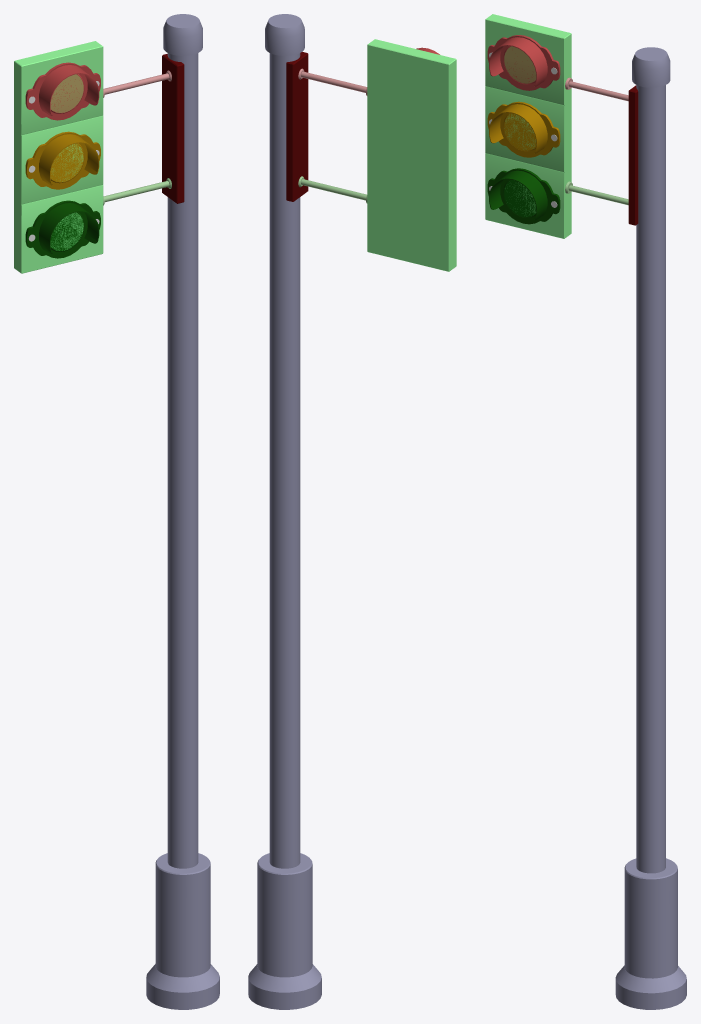
The model's file is t-lightTS.FBX.
The picture shows the model from 3 angles, left to right: view 1: azimuth 30°, elevation 25°; view 2: azimuth 150°, elevation 25°; view 3: azimuth 330°, elevation 25°; orthographic projection. The views are drawn at different scales.
Visible parts, largest first — view 1: tab, light-tab, light-red, light-yellow, light-green, holder-right, holder-down, holder-up; view 2: tab, light-tab, holder-right, holder-up, holder-down; view 3: tab, light-tab, light-yellow, light-red, light-green, holder-right.
Boxes of the visible parts, box(x1,y1,x2,y2) form: tab: box(146, 14, 219, 1009); light-tab: box(14, 41, 103, 273); light-red: box(25, 62, 100, 120); light-yellow: box(25, 131, 100, 189); light-green: box(25, 200, 100, 258); holder-right: box(162, 54, 184, 203); holder-down: box(103, 178, 171, 205); holder-up: box(103, 70, 171, 97); tab: box(248, 14, 321, 1009); light-tab: box(367, 39, 456, 271); holder-right: box(286, 52, 308, 201); holder-up: box(298, 68, 367, 95); holder-down: box(298, 176, 367, 203); tab: box(615, 47, 686, 1009); light-tab: box(485, 14, 571, 238); light-yellow: box(487, 101, 560, 157); light-red: box(487, 35, 560, 90); light-green: box(487, 168, 560, 224); holder-right: box(628, 85, 638, 225).
Bounding box in the file's own units: 75.01 × 351 × 23.93.
